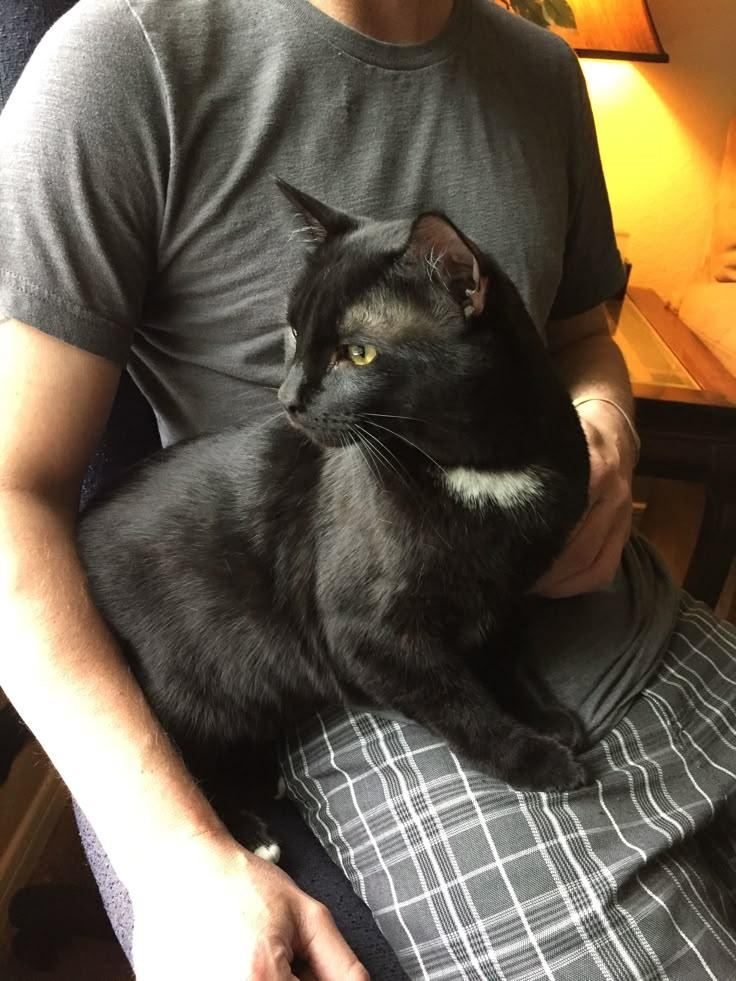kedo: (86, 184, 606, 793)
